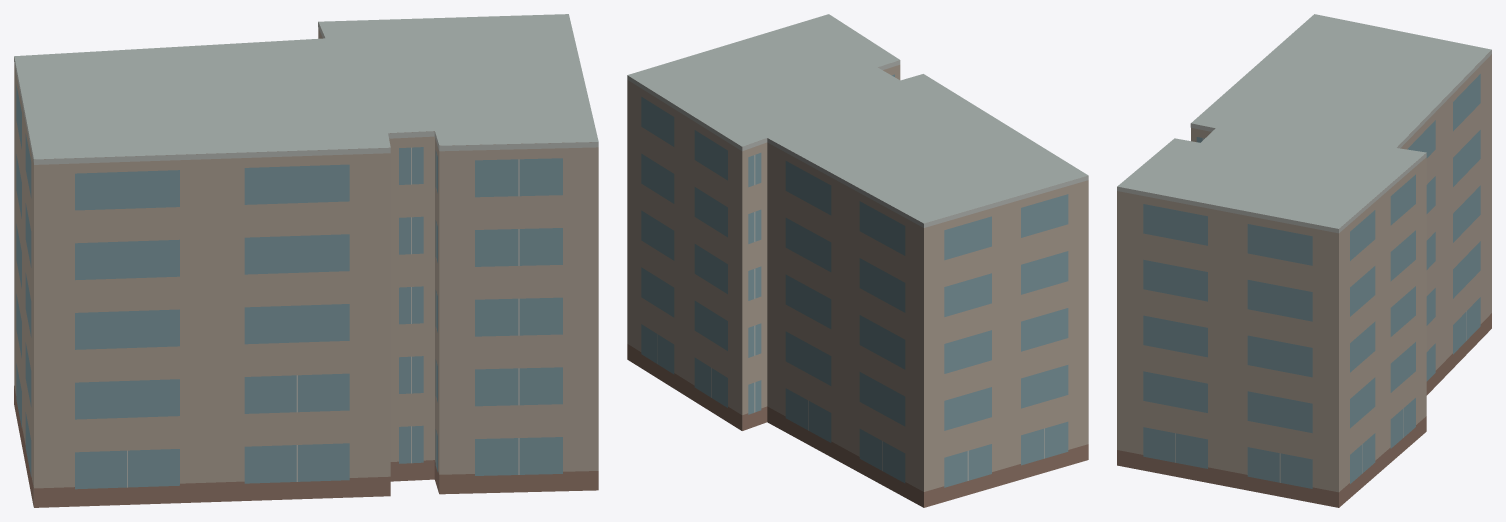
File: survey-upis-32901149.glb
3 renders of one model, left to right at view 1: azimuth 30°, elevation 25°; view 2: azimuth 150°, elevation 25°; view 3: azimuth 270°, elevation 25°, orthographic. The views are drawn at different scales.
Visible parts, largest first — view 1: survey-upis-32901149.tmp; view 2: survey-upis-32901149.tmp; view 3: survey-upis-32901149.tmp.
Part boxes in pixels (bbox=[...]): survey-upis-32901149.tmp: bbox=[14, 14, 598, 507]; survey-upis-32901149.tmp: bbox=[627, 14, 1088, 507]; survey-upis-32901149.tmp: bbox=[1117, 14, 1491, 507].
Bounding box in the file's own units: 25.46 × 15.4 × 18.76.
